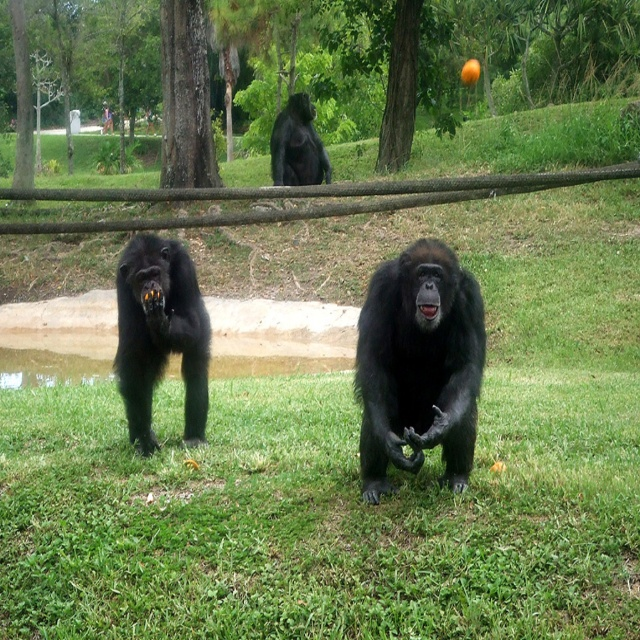Monkey: (352, 237, 487, 505), (111, 232, 210, 456), (270, 93, 330, 186)
